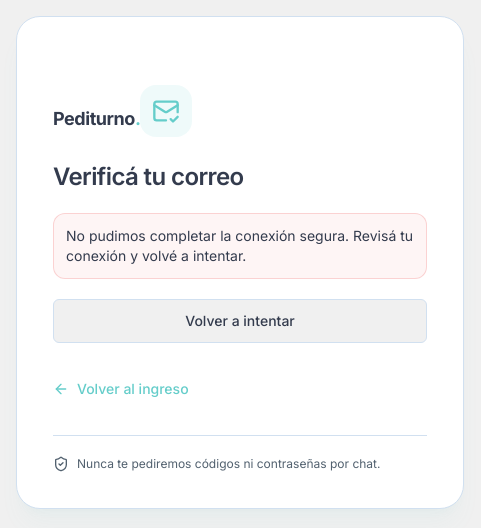
it: email action page › retains the code on a readiness retry despite having cleaned the URL
The width and height of the screenshot is (481, 528).
Click the button "Volver a intentar".
click(240, 320)  # box [53, 298, 427, 342]
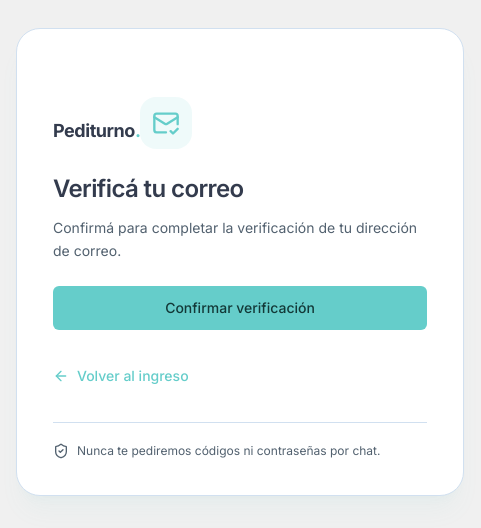
Now the button "Confirmar verificación" is shown, box [53, 286, 427, 330]
